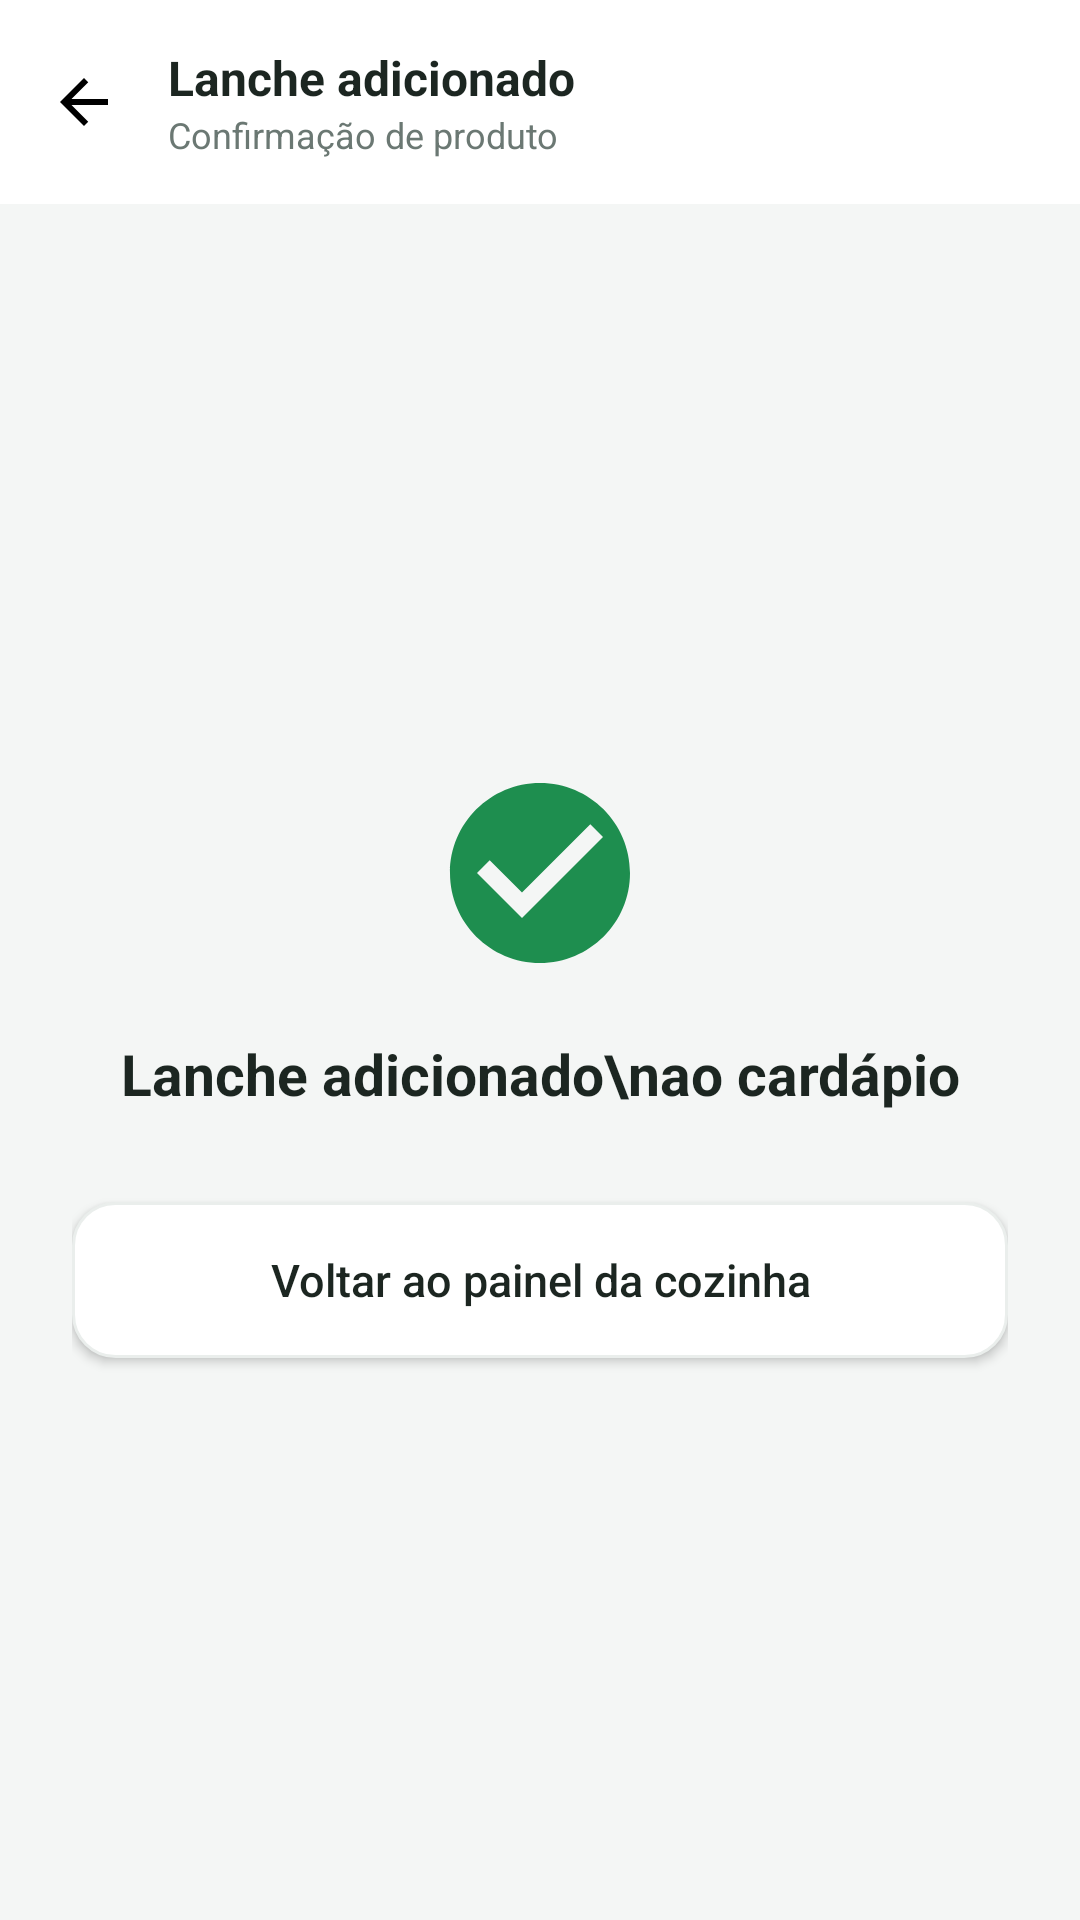

Screen size 1080 x 1920. Icon name, then its box in pixels as (x1, y1, x2, y2):
check circle: (450, 783, 630, 963)
Voltar: (60, 78, 108, 126)
